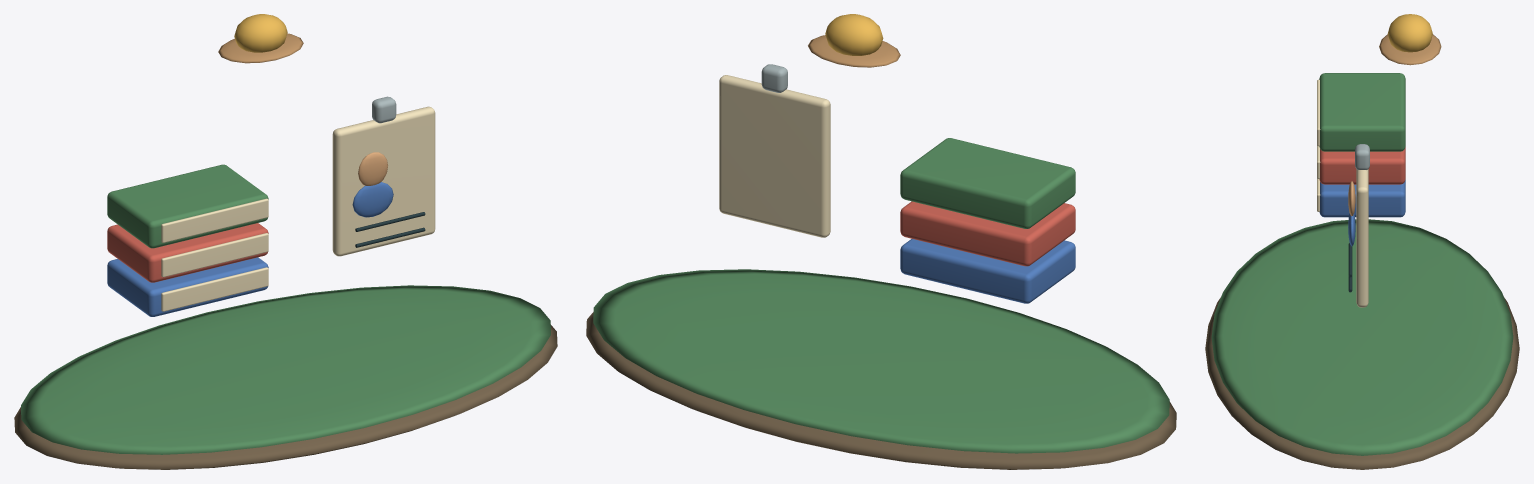
File: complete-third-broad-scholarship.glb
The picture shows the model from 3 angles, left to right: view 1: azimuth 30°, elevation 25°; view 2: azimuth 150°, elevation 25°; view 3: azimuth 270°, elevation 25°; orthographic projection. The views are drawn at different scales.
Visible parts, largest first — view 1: complete-third-broad-scholarship_surface_01, complete-third-broad-scholarship_surface_03, complete-third-broad-scholarship_surface_00, complete-third-broad-scholarship_surface_02, complete-third-broad-scholarship_surface_04, complete-third-broad-scholarship_surface_09, complete-third-broad-scholarship_surface_08, complete-third-broad-scholarship_surface_06, complete-third-broad-scholarship_surface_07, complete-third-broad-scholarship_surface_05; view 2: complete-third-broad-scholarship_surface_01, complete-third-broad-scholarship_surface_03, complete-third-broad-scholarship_surface_00, complete-third-broad-scholarship_surface_04, complete-third-broad-scholarship_surface_02, complete-third-broad-scholarship_surface_09, complete-third-broad-scholarship_surface_08, complete-third-broad-scholarship_surface_05; view 3: complete-third-broad-scholarship_surface_01, complete-third-broad-scholarship_surface_00, complete-third-broad-scholarship_surface_02, complete-third-broad-scholarship_surface_04, complete-third-broad-scholarship_surface_03, complete-third-broad-scholarship_surface_09, complete-third-broad-scholarship_surface_08, complete-third-broad-scholarship_surface_05.
Part boxes in pixels (x1,y1,x2,y2): complete-third-broad-scholarship_surface_01: (21, 164, 550, 454); complete-third-broad-scholarship_surface_03: (161, 106, 435, 311); complete-third-broad-scholarship_surface_00: (14, 324, 557, 469); complete-third-broad-scholarship_surface_02: (107, 182, 393, 316); complete-third-broad-scholarship_surface_04: (107, 223, 268, 282); complete-third-broad-scholarship_surface_09: (234, 14, 287, 52); complete-third-broad-scholarship_surface_08: (218, 33, 303, 63); complete-third-broad-scholarship_surface_06: (358, 152, 387, 185); complete-third-broad-scholarship_surface_07: (355, 212, 425, 247); complete-third-broad-scholarship_surface_05: (372, 96, 396, 123); complete-third-broad-scholarship_surface_01: (593, 138, 1169, 453); complete-third-broad-scholarship_surface_03: (719, 75, 830, 237); complete-third-broad-scholarship_surface_00: (586, 312, 1176, 469); complete-third-broad-scholarship_surface_04: (900, 201, 1075, 266); complete-third-broad-scholarship_surface_02: (900, 239, 1075, 303); complete-third-broad-scholarship_surface_09: (825, 14, 883, 55); complete-third-broad-scholarship_surface_08: (808, 35, 900, 67); complete-third-broad-scholarship_surface_05: (761, 64, 787, 92); complete-third-broad-scholarship_surface_01: (1211, 73, 1513, 455); complete-third-broad-scholarship_surface_00: (1205, 297, 1519, 469); complete-third-broad-scholarship_surface_02: (1319, 179, 1405, 246); complete-third-broad-scholarship_surface_04: (1319, 147, 1405, 184); complete-third-broad-scholarship_surface_03: (1317, 79, 1368, 307); complete-third-broad-scholarship_surface_09: (1387, 14, 1432, 52); complete-third-broad-scholarship_surface_08: (1379, 34, 1441, 65); complete-third-broad-scholarship_surface_05: (1355, 144, 1369, 169).
Bounding box in the file's own units: 4.56 × 3.04 × 2.5.
